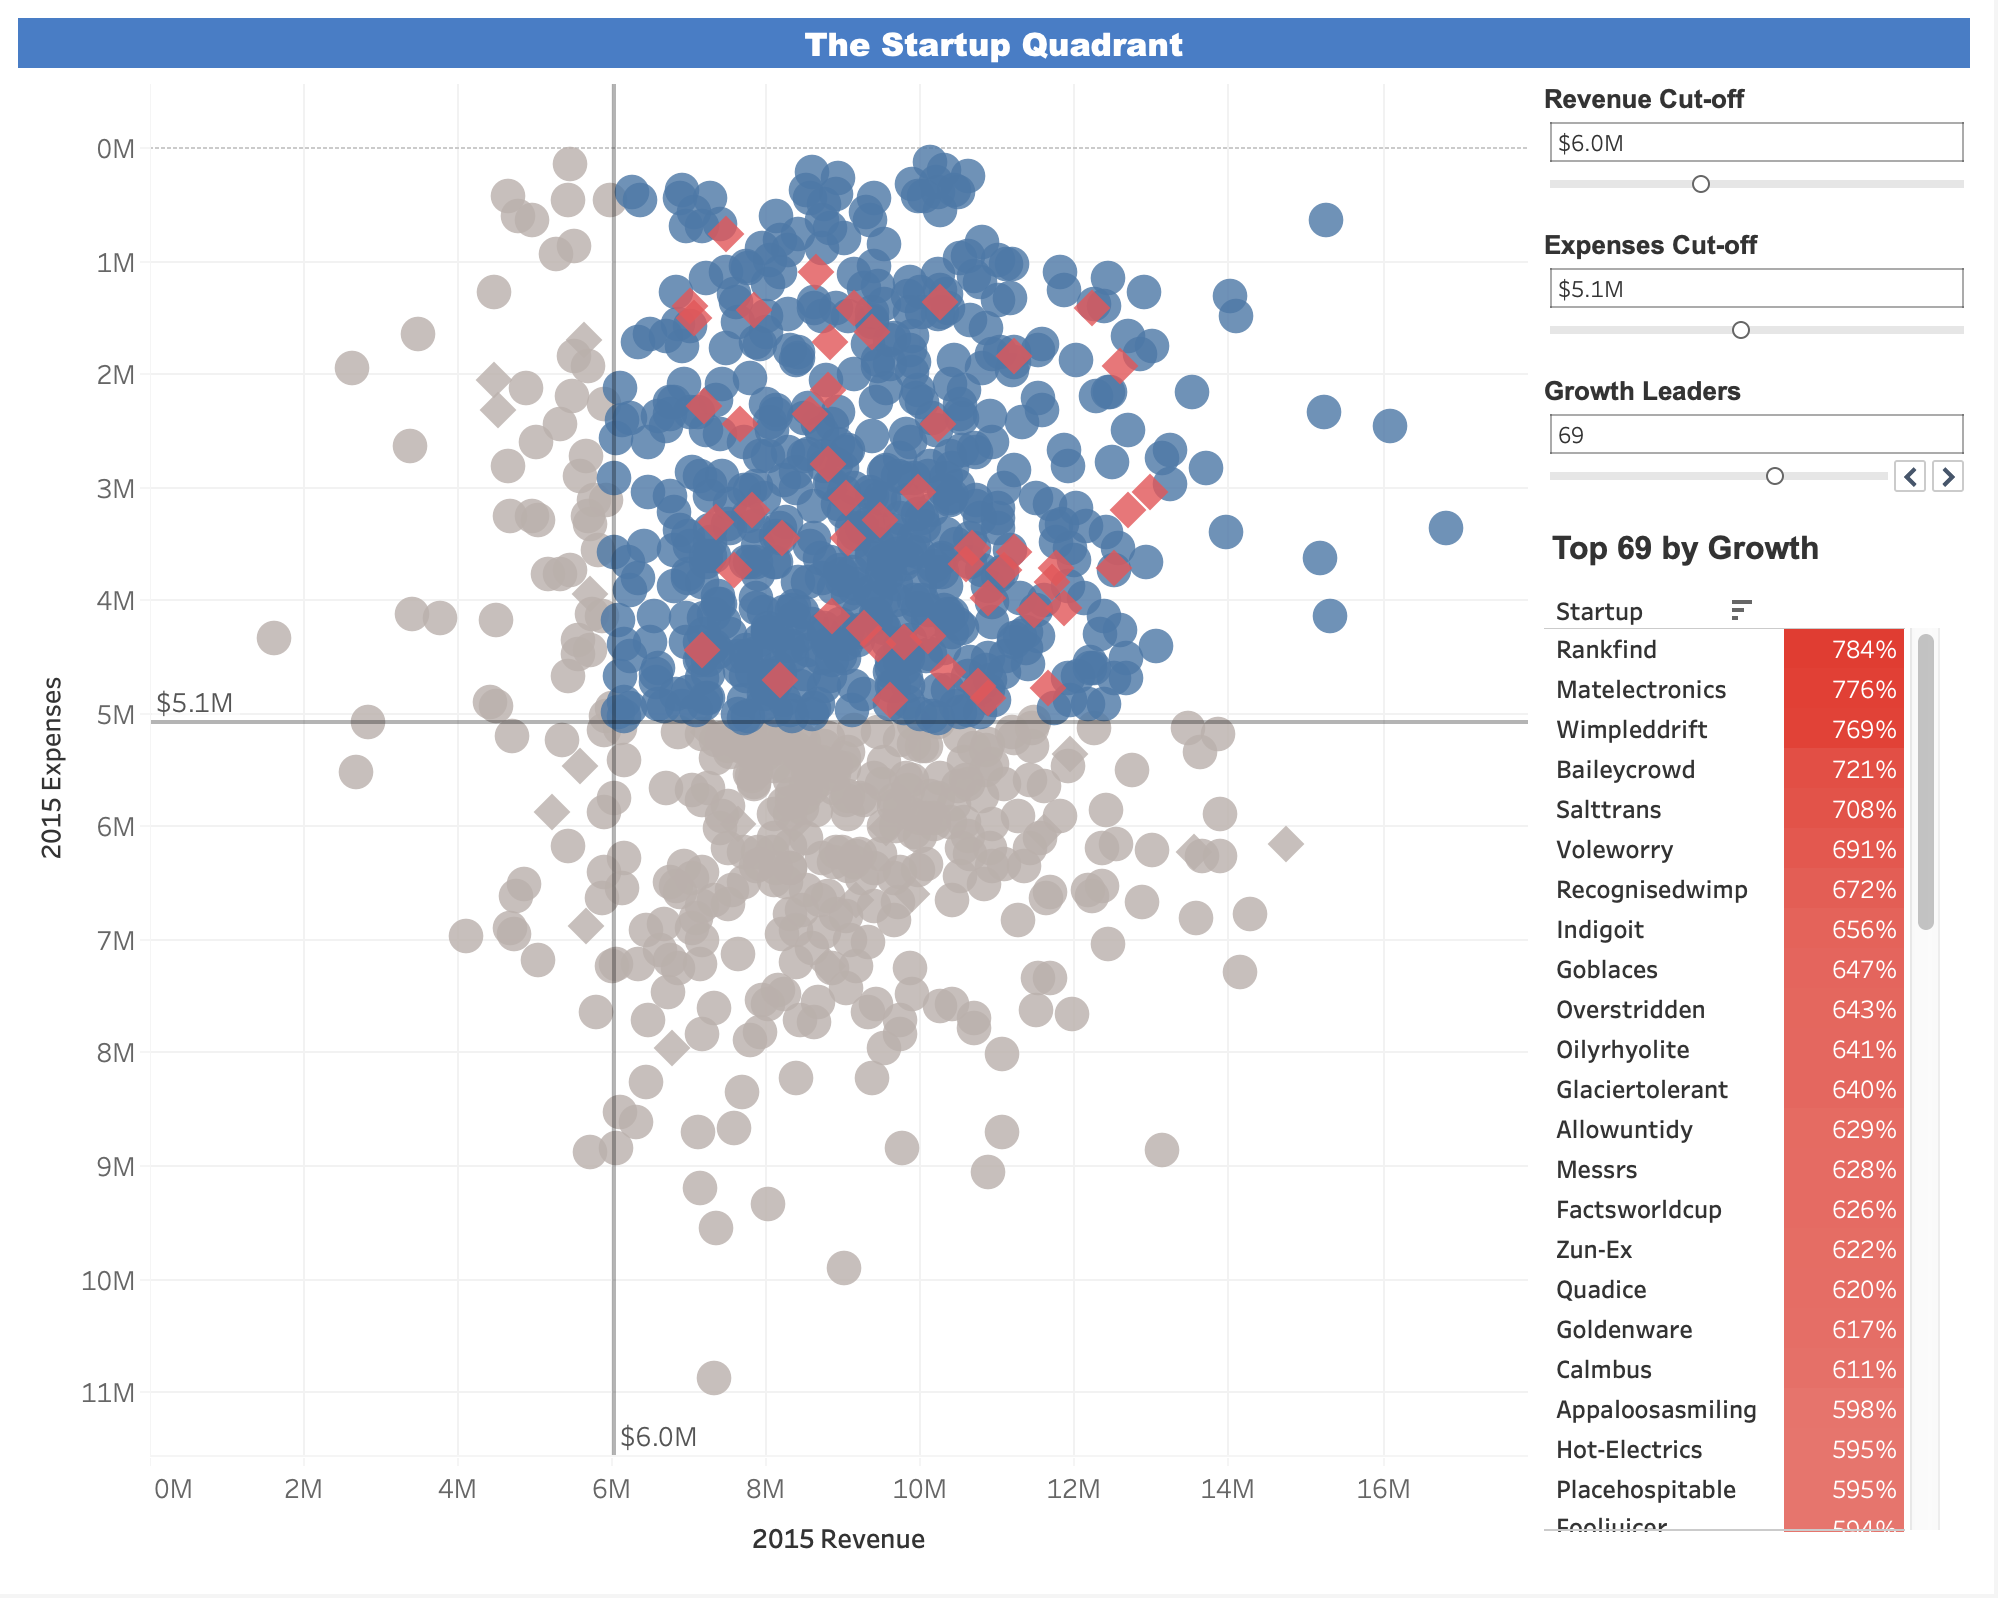

Layout of this report page (visuals, bound fields, positions):
{"tool":"tableau","page":{"name":"The Start-up Quadrant","canvas":[1000,800],"ordinal":0},"visuals":[{"type":"text","box":[8,8,984,33]},{"type":"worksheet","title":"Scatterplot","mark":"Shape","rows":["2015 Expenses"],"cols":["2015 Revenue"],"box":[8,41,763,751]},{"type":"parameter","param":"[Parameters].[Parameter 2]","box":[771,41,221,73]},{"type":"parameter","param":"[Parameters].[Parameter 3]","box":[771,114,221,73]},{"type":"parameter","param":"[Parameters].[Parameter 1]","box":[771,187,221,73]},{"type":"worksheet","title":"Growth","mark":"Square","rows":["Name"],"box":[771,260,221,532]}]}

Visuals, with their boxes in screenshot pixels (x1, y1, x2, y2), scaled from the page's 1000x800 canvas onto the 1998x1598 screenshot:
text: left=16, top=16, right=1982, bottom=82
"Scatterplot" worksheet (Shape marks): left=16, top=82, right=1540, bottom=1582
parameter: left=1540, top=82, right=1982, bottom=228
parameter: left=1540, top=228, right=1982, bottom=374
parameter: left=1540, top=374, right=1982, bottom=519
"Growth" worksheet (Square marks): left=1540, top=519, right=1982, bottom=1582
